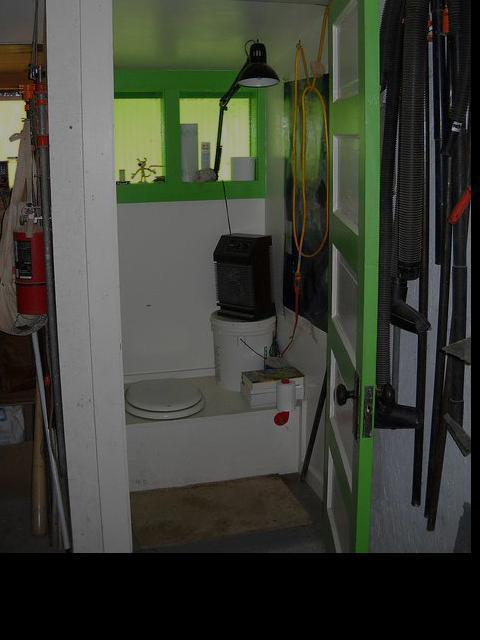Sanitario: (122, 369, 207, 424)
